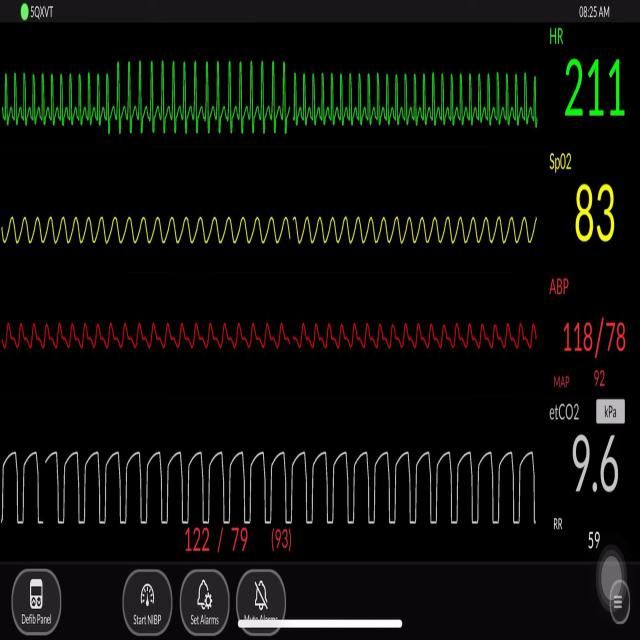danger: (5, 41, 528, 157)
